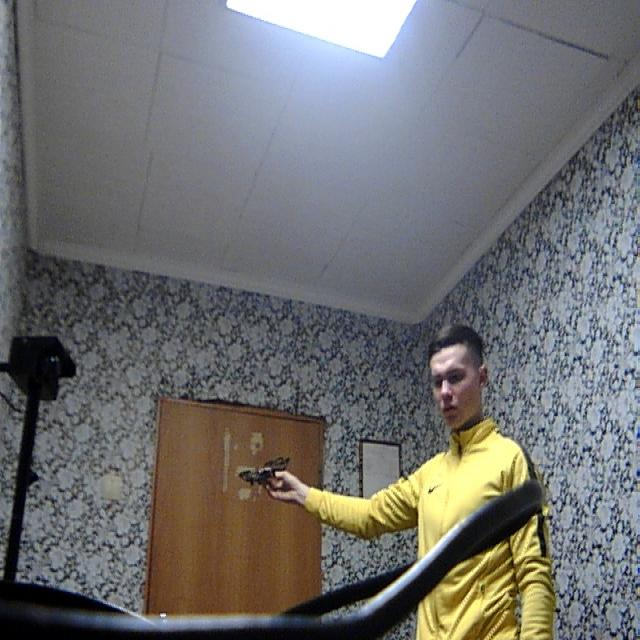drone: (237, 438, 304, 495)
